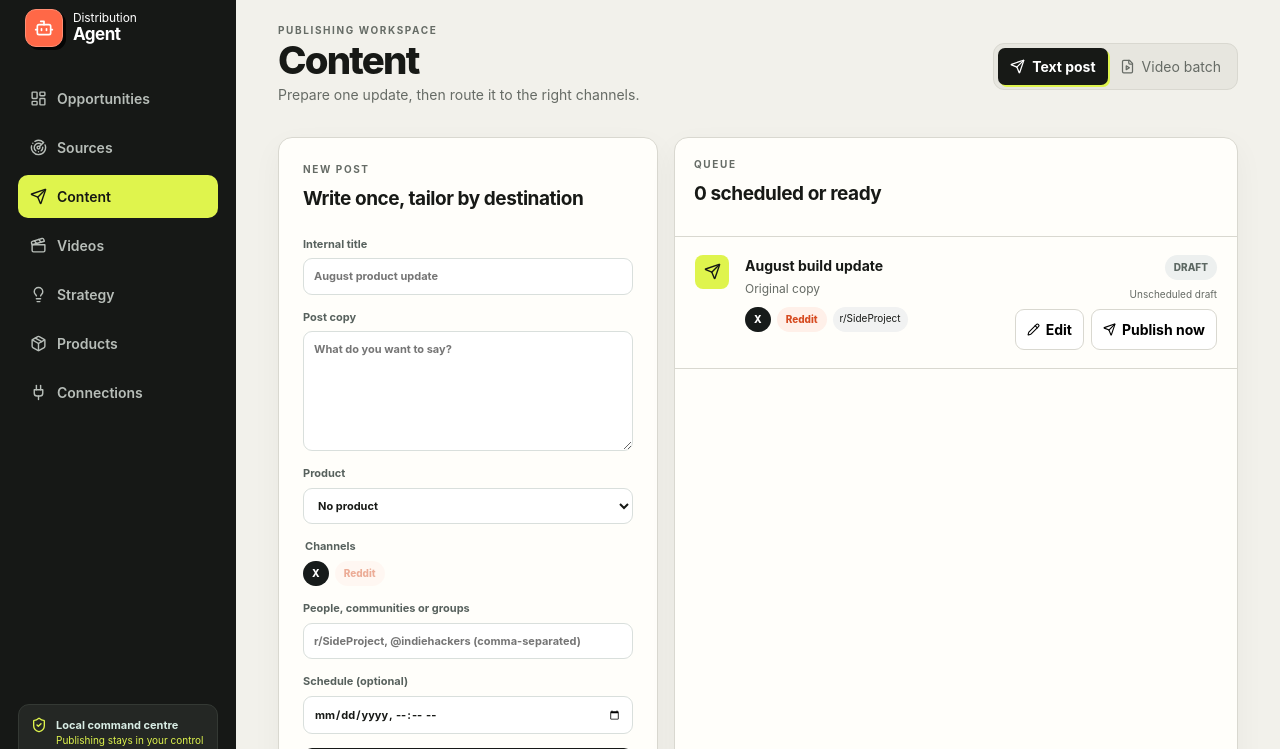
Test: multi-channel content › edits queued content and persists the changes
Click the button "Edit" at (1049, 329), box 1015,309 -> 1084,350
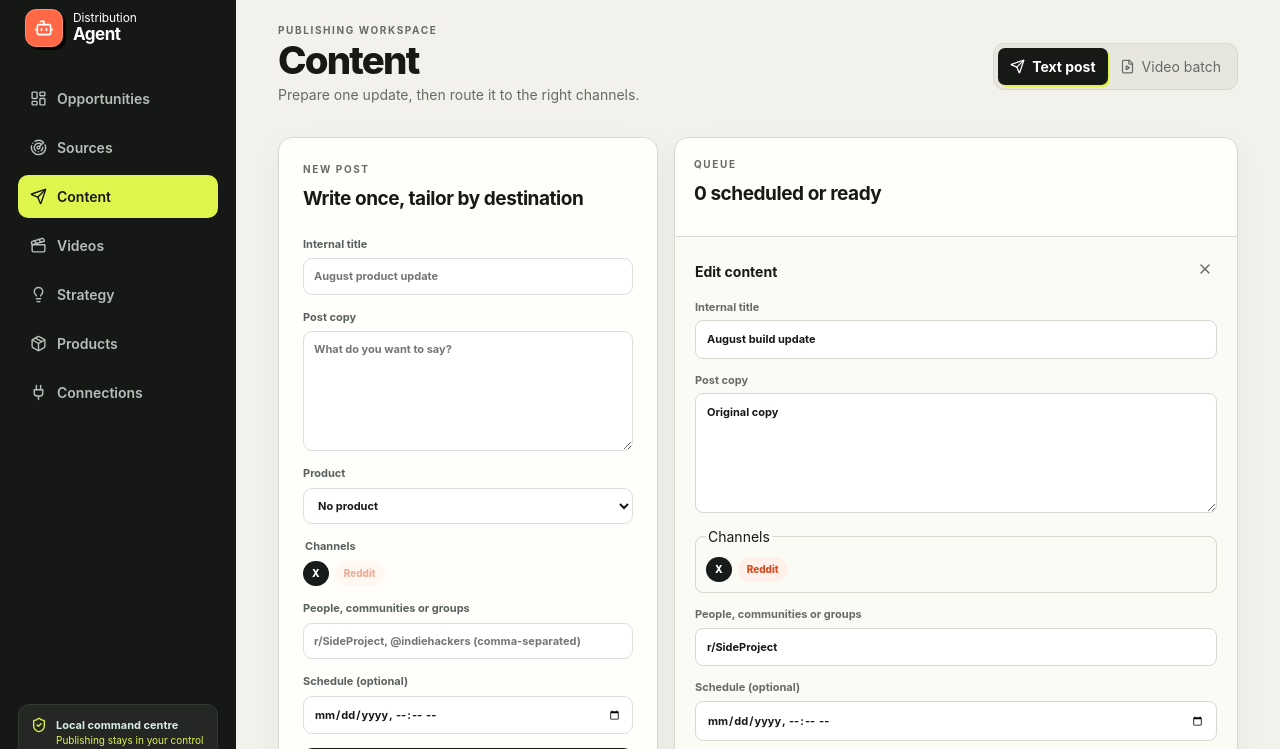
Replace the text in the text box named "Edit post copy" with "Updated campaign copy" at (956, 453), box 695,393 -> 1217,513
(page scrolled)
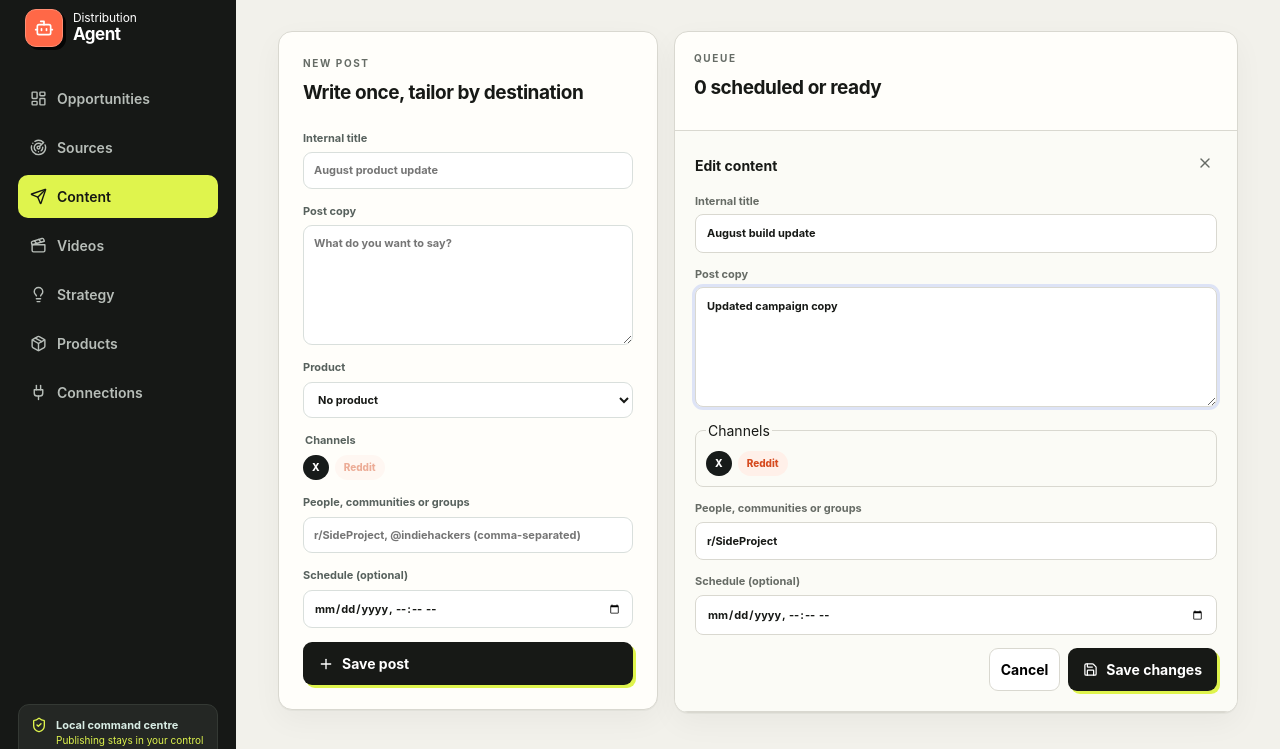
Click the button "Save changes" at (1143, 670), box 1068,648 -> 1217,691
(page scrolled)
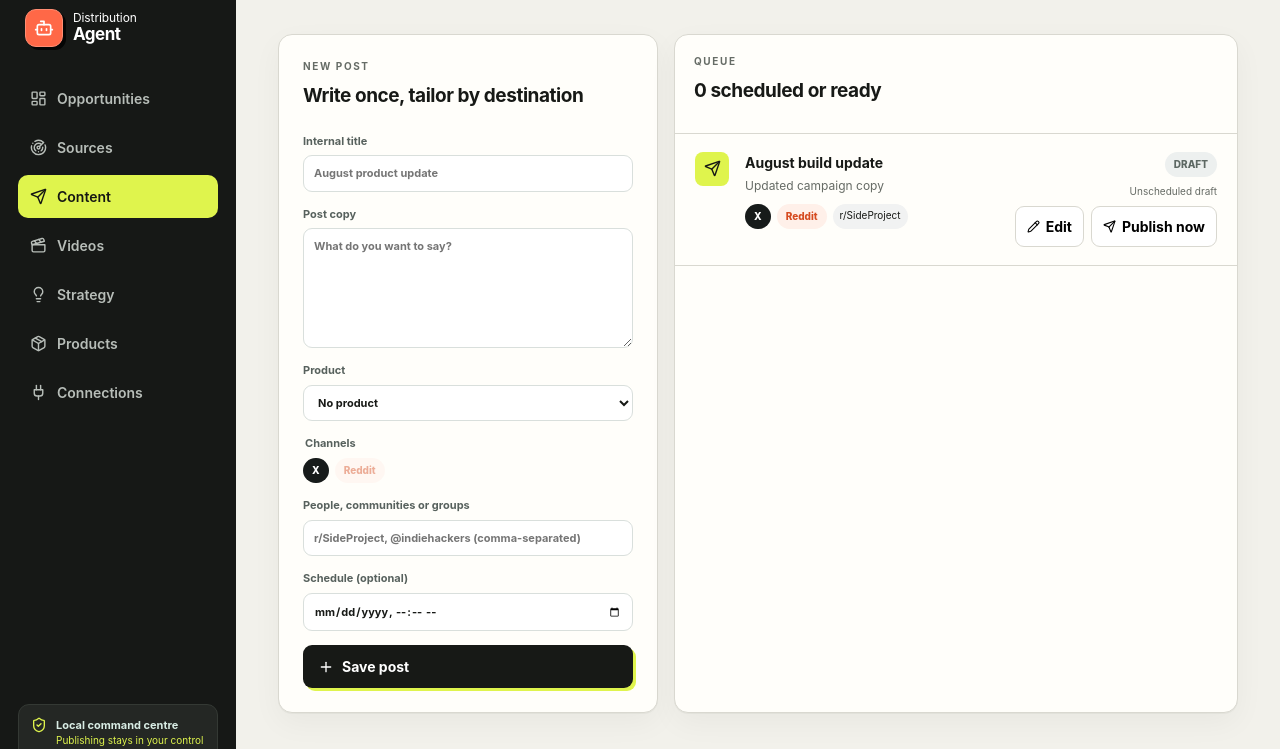
Result: the text "Updated campaign copy" is shown at 745,178 -> 884,193
